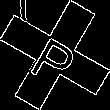P_NE: (26, 24, 84, 86)
